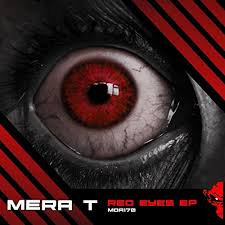e.other: (62, 61, 135, 134)
